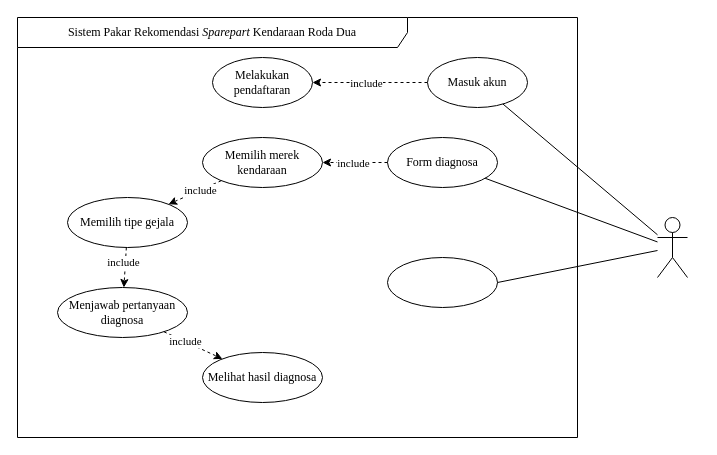
The diagram is 717 pixels wide and 455 high, and some of its shapes have lost their labels. Each missing label, with the box of its shape:
Keluar akun: (386, 256, 498, 308)
Mekanik: (656, 216, 688, 278)
